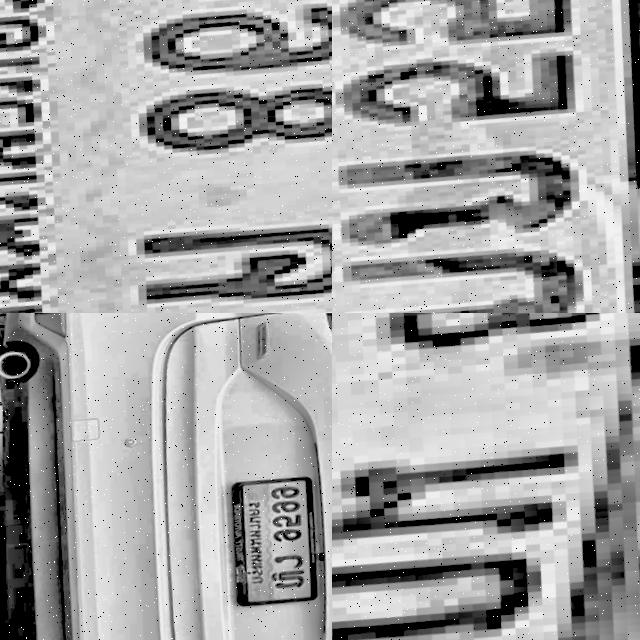license-plate: (0, 0, 332, 313), (332, 313, 640, 640), (332, 0, 640, 313), (223, 466, 332, 608)
